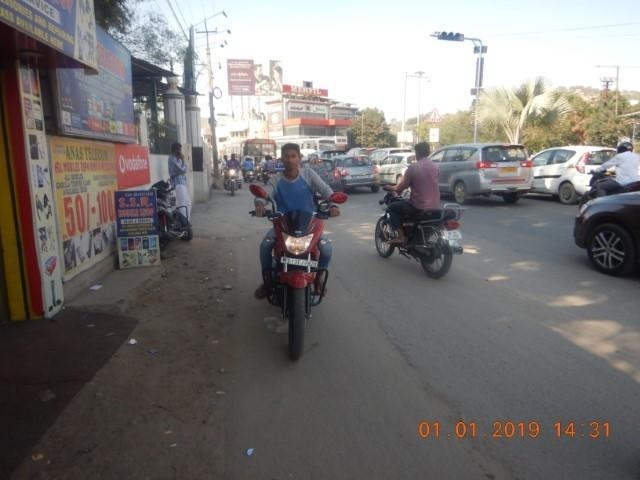plate: (281, 255, 317, 268), (443, 229, 462, 239)
